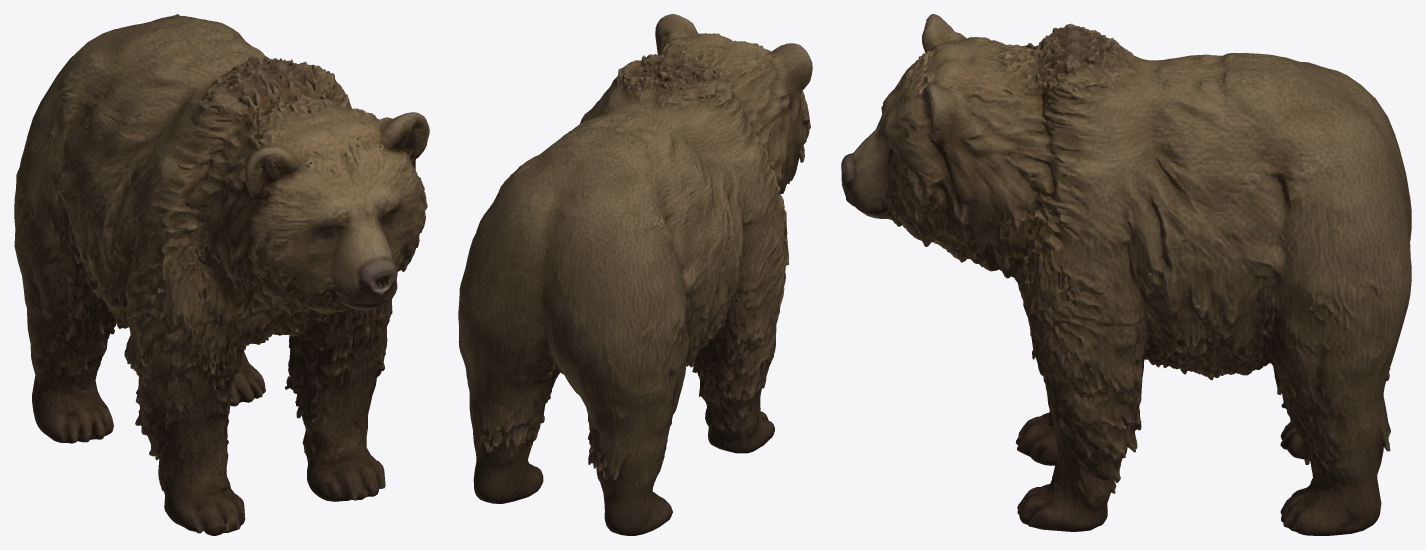
Rendered from brown-bear-v21-lod.glb.
3 views of the same model, side by side, from view 1: azimuth 30°, elevation 25°; view 2: azimuth 150°, elevation 25°; view 3: azimuth 270°, elevation 25° (orthographic). The views are drawn at different scales.
Parts seen in each view (by area): view 1: geometry_0; view 2: geometry_0; view 3: geometry_0.
Boxes of the visible parts, x1=… form: geometry_0: x1=14, y1=14, x2=429, y2=535; geometry_0: x1=458, y1=14, x2=812, y2=535; geometry_0: x1=841, y1=14, x2=1411, y2=535.
Bounding box in the file's own units: 2 × 3.31 × 3.79.
1 material, 1 textured.
